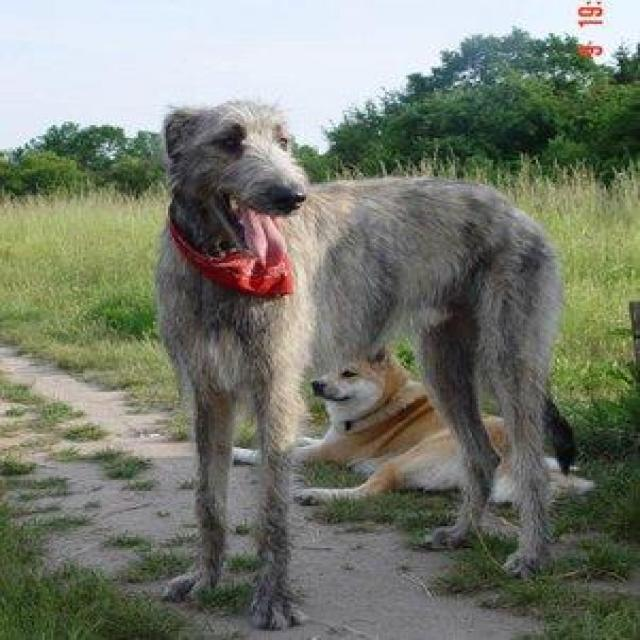irish_wolfhound: (153, 97, 576, 629)
